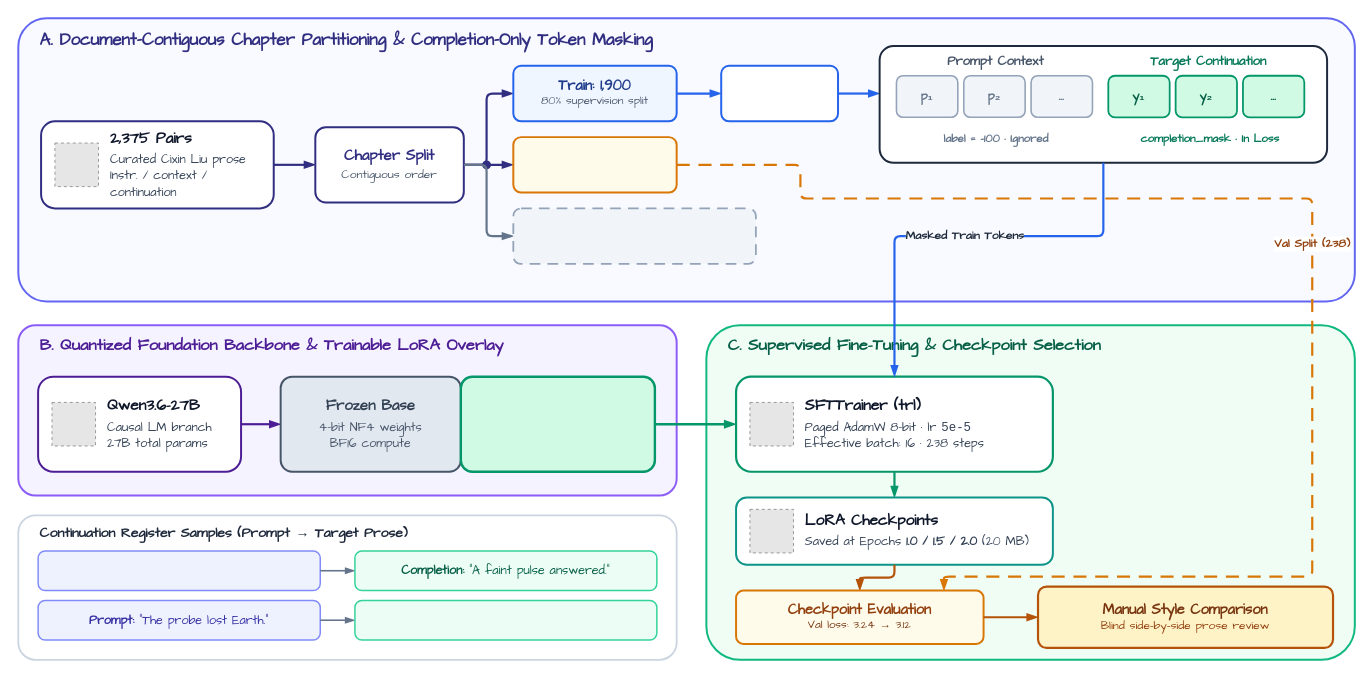
The diagram is 1372 pixels wide and 677 high, and some of its shapes have lost their labels. Grey dashed boxes stand in for pictures. The shapes that lost their labels are listed below. From the top down, each one's box as (x1, y1, x2, y2) in pixels, then its label:
(720, 64, 839, 122): ChatML Tokenize
(512, 136, 677, 193): Validation: 238 Checkpoint eval only
(512, 207, 756, 264): Test: 237 (Held-Out) Excluded from training & selection
(459, 375, 656, 472): Trainable LoRA r = 16, α = 32 q / k / v / o projections
(37, 550, 321, 591): Prompt: “The beacon went dark.”
(354, 599, 657, 640): Completion: “Its clock kept counting.”
